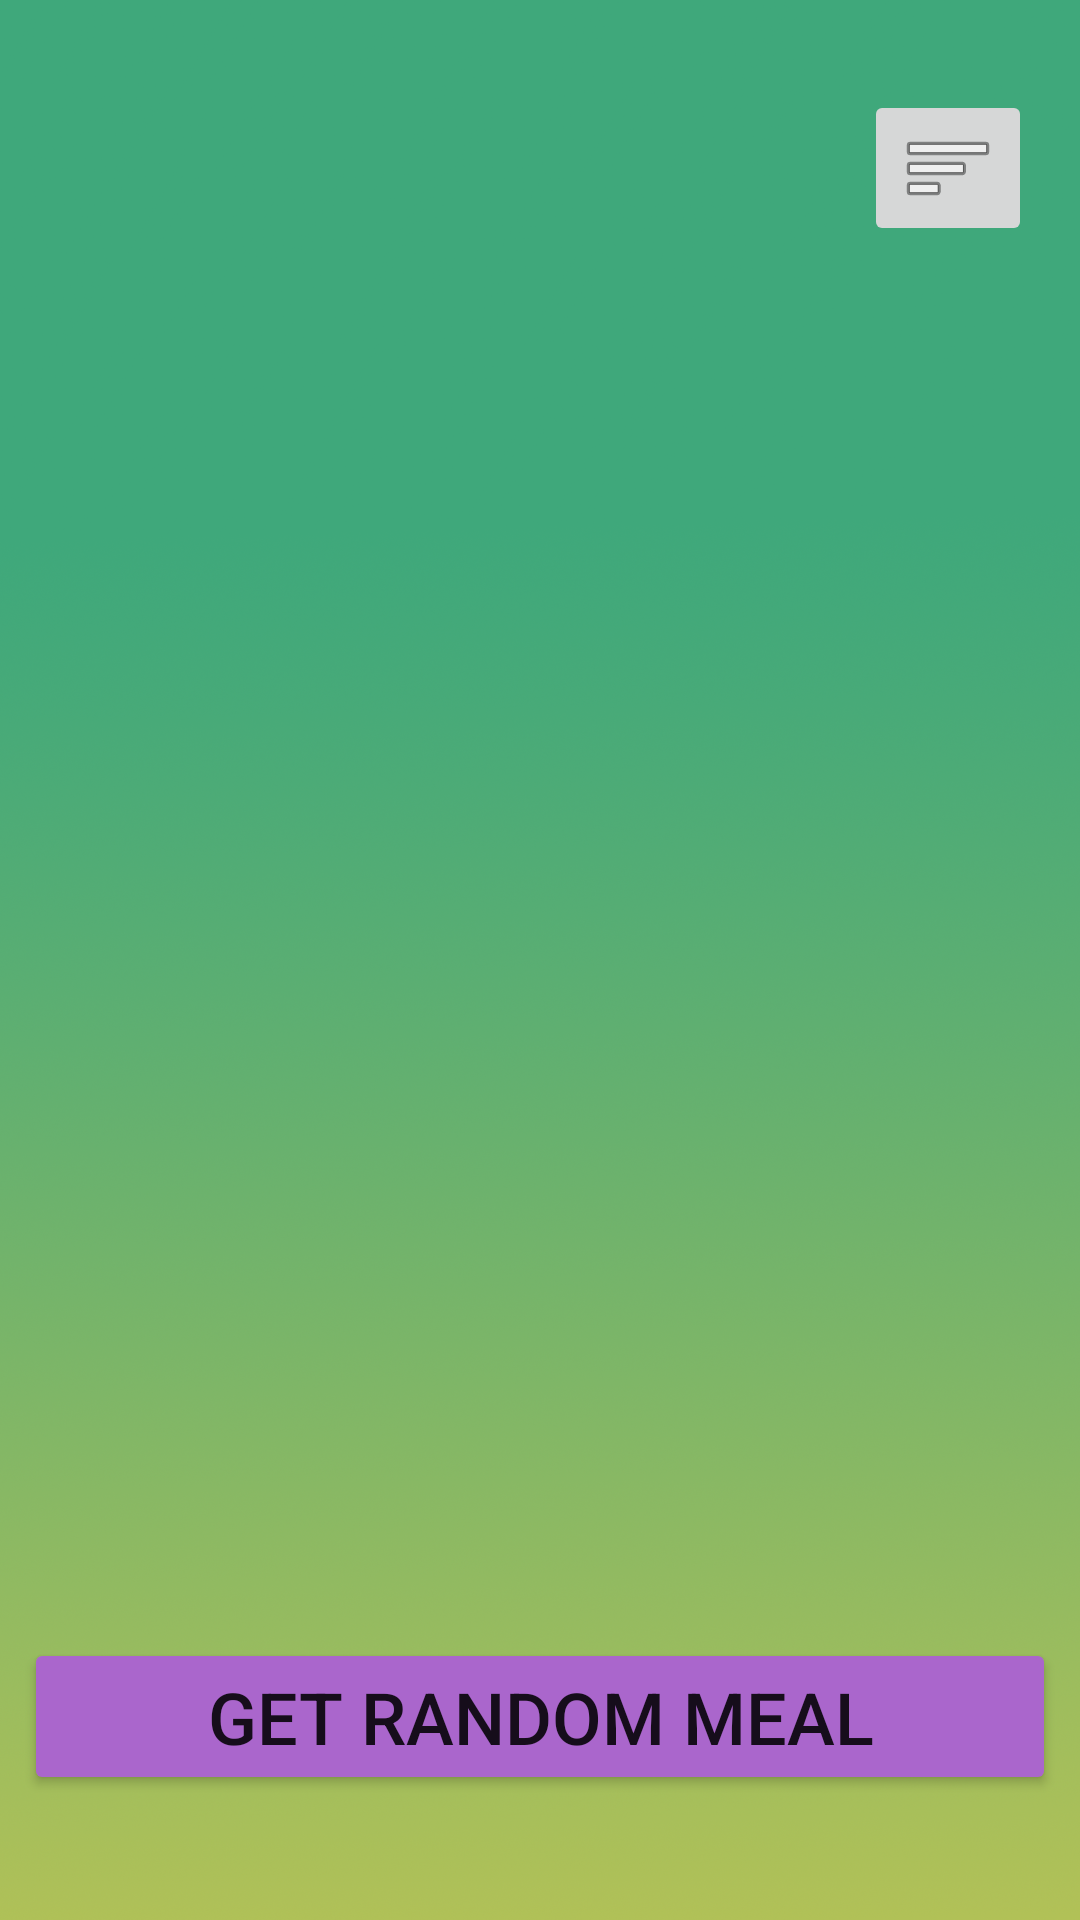

Icon bounding boxes for this 1080 x 1920 phone screenshot, format (x1, y1, x2, y2):
sort by size: (876, 108, 1020, 228)
